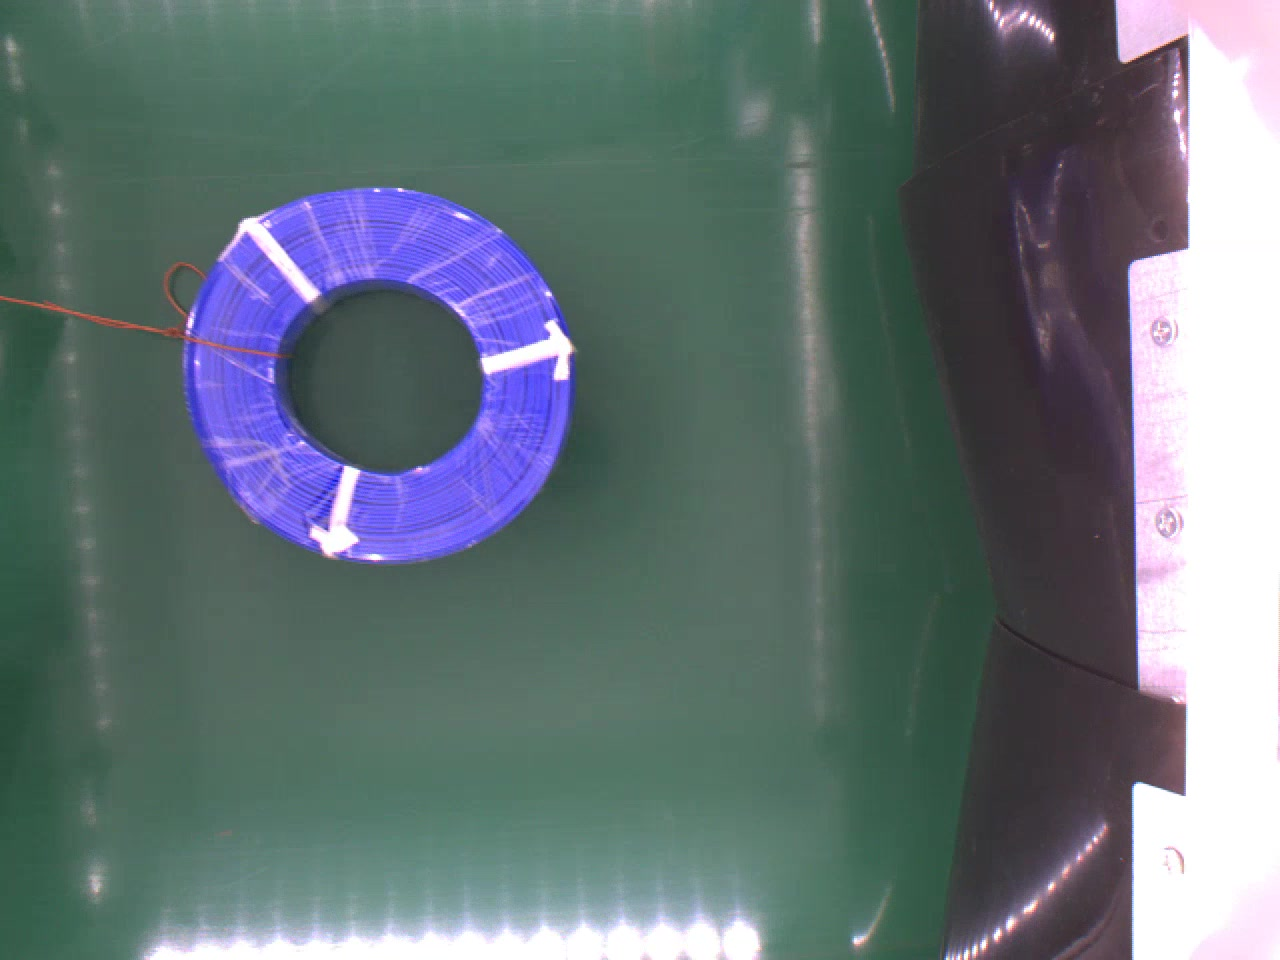blue: (181, 181, 577, 562)
